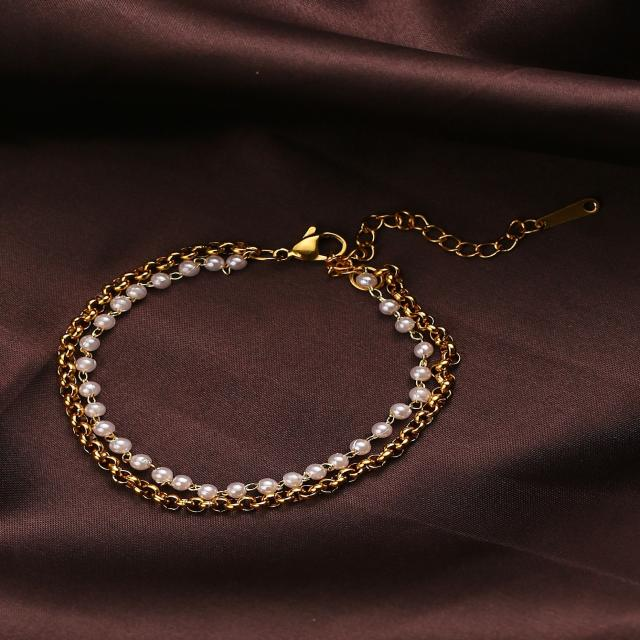bracelet: (10, 132, 640, 548)
